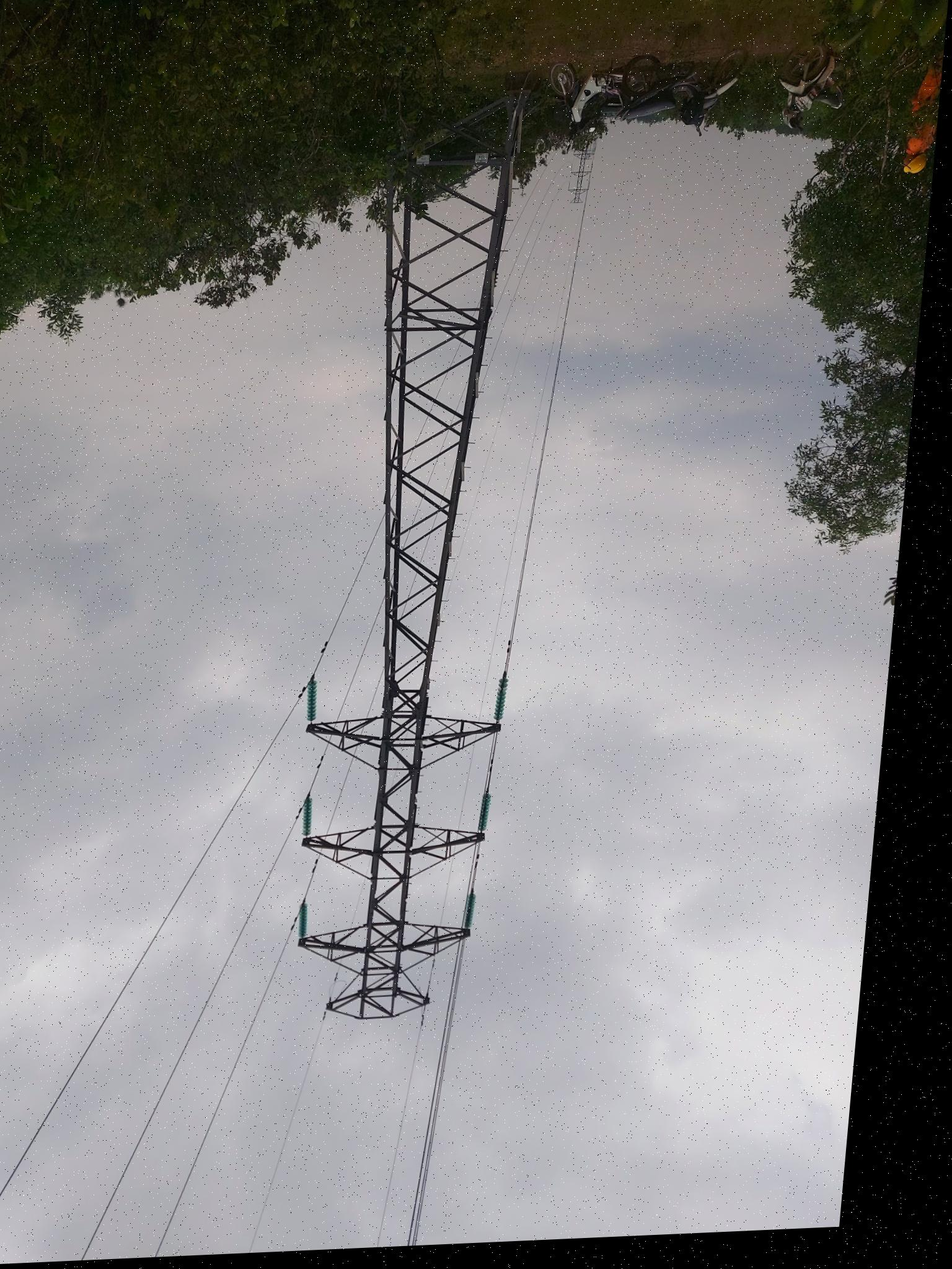tower: (242, 33, 576, 1038)
